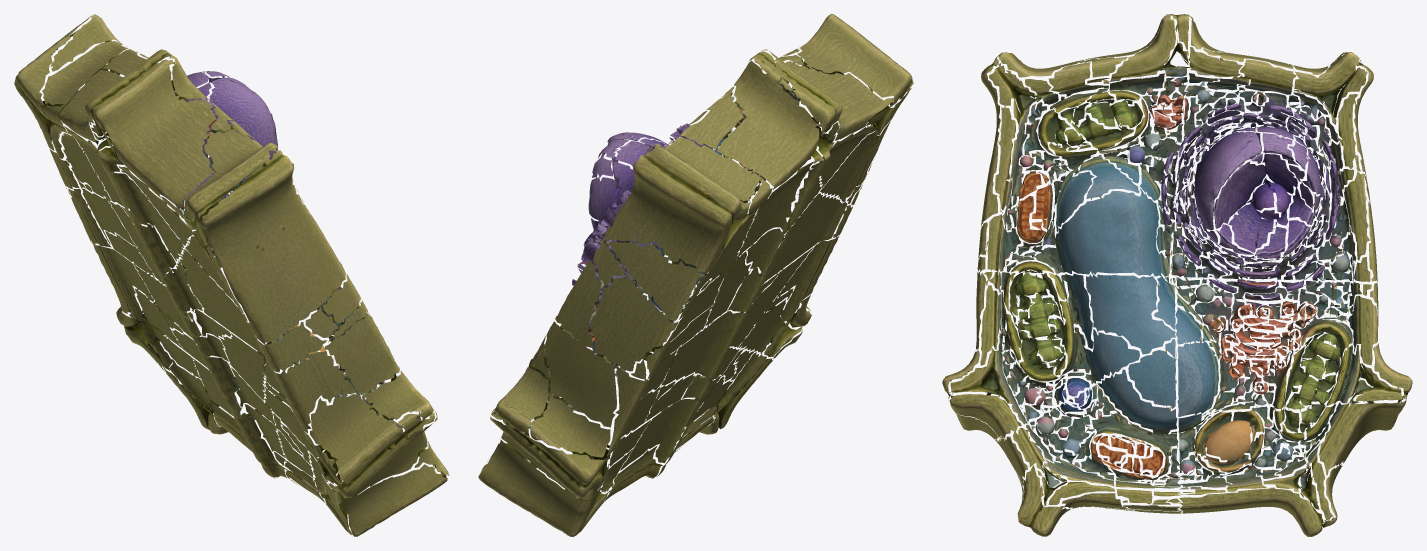
Rendered from plant-cell-first001.glb.
3 renders of one model, left to right at view 1: azimuth 30°, elevation 25°; view 2: azimuth 150°, elevation 25°; view 3: azimuth 270°, elevation 25°, orthographic.
Bounding box in the file's own units: 0.6362 × 0.978 × 0.9212.
1 material, 1 textured.
